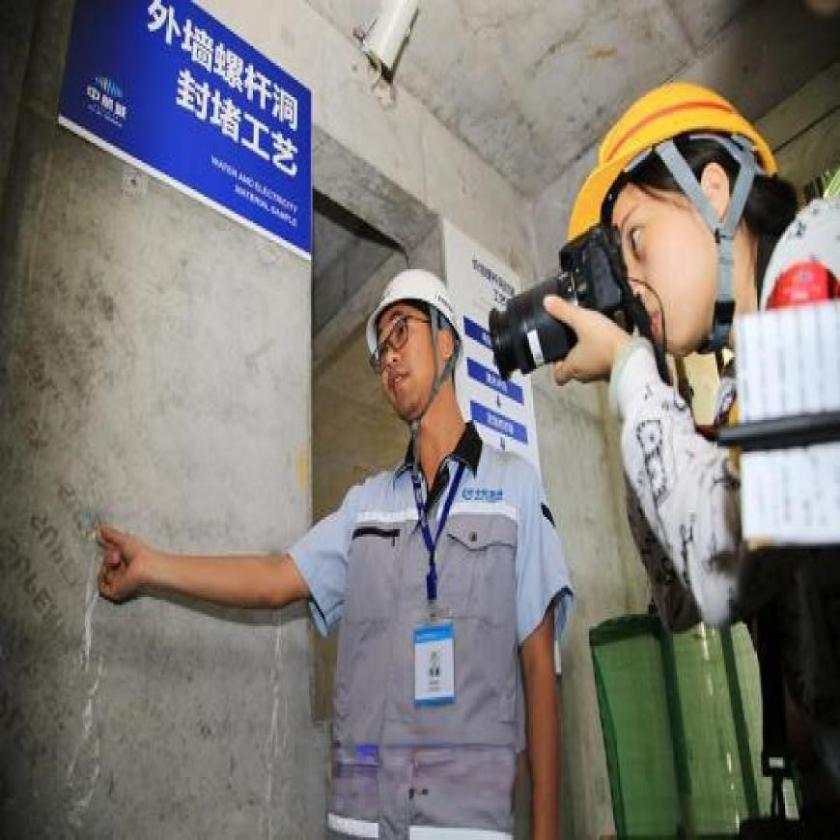Con_casco: (566, 70, 800, 356), (362, 262, 468, 447)
